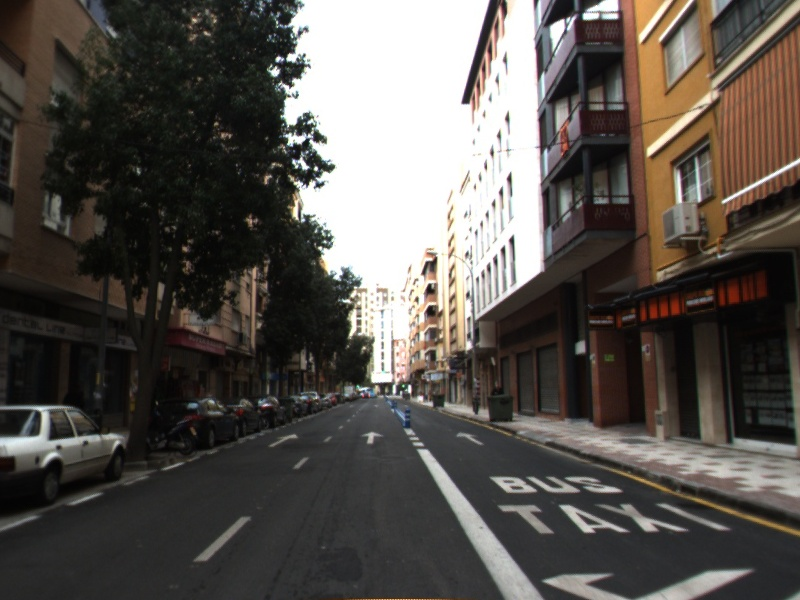STRAIGHT: (266, 431, 300, 449), (454, 429, 486, 447), (359, 429, 386, 446)
